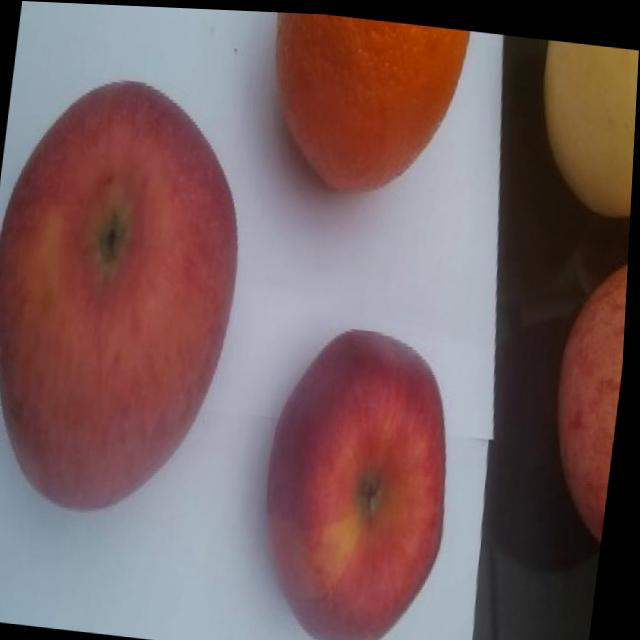Apple: (0, 65, 260, 523), (253, 315, 471, 640), (544, 243, 631, 539)
Orange: (259, 9, 472, 199)
